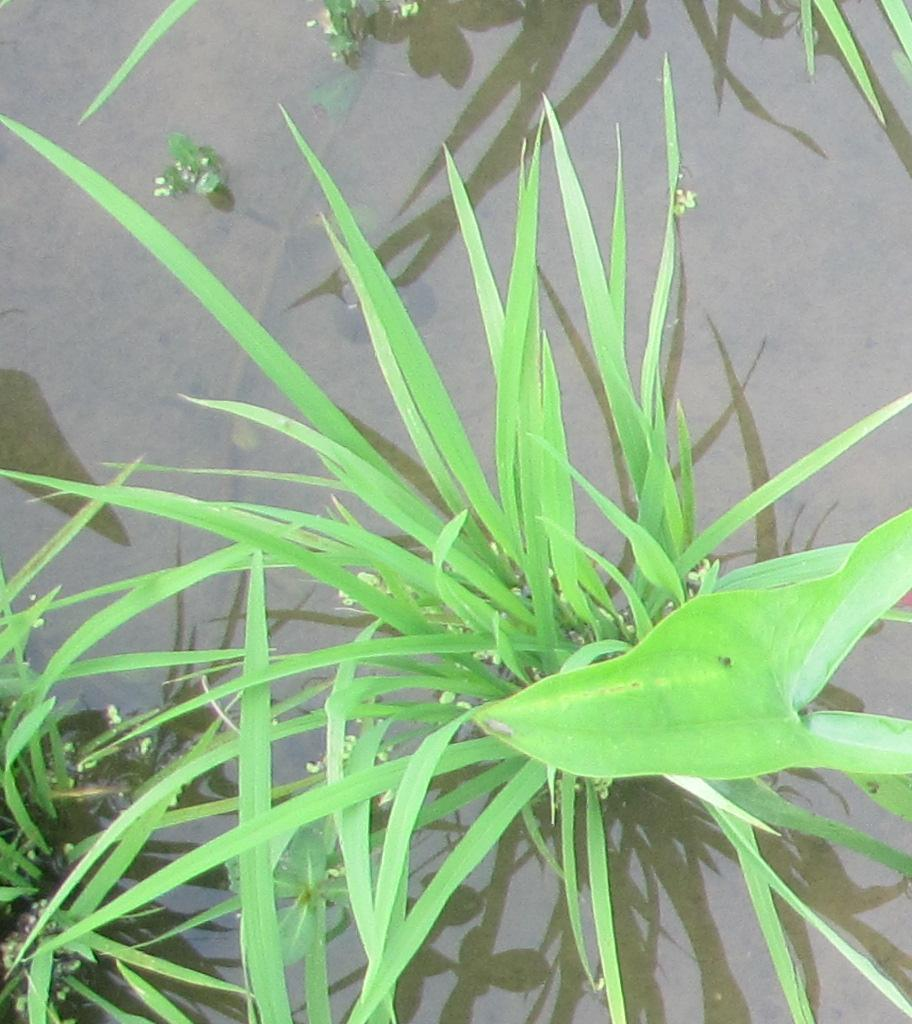Weed: (667, 514, 870, 780), (473, 661, 660, 780)
